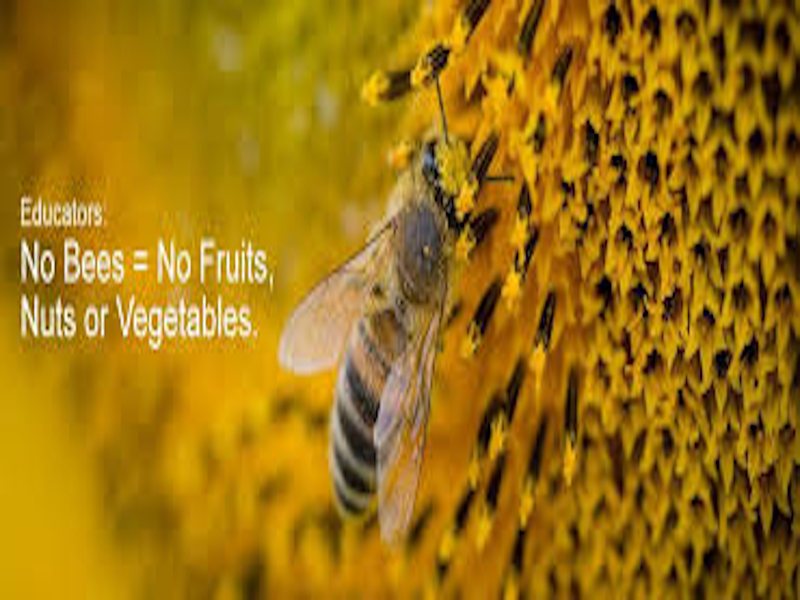abeja: (280, 71, 515, 524)
